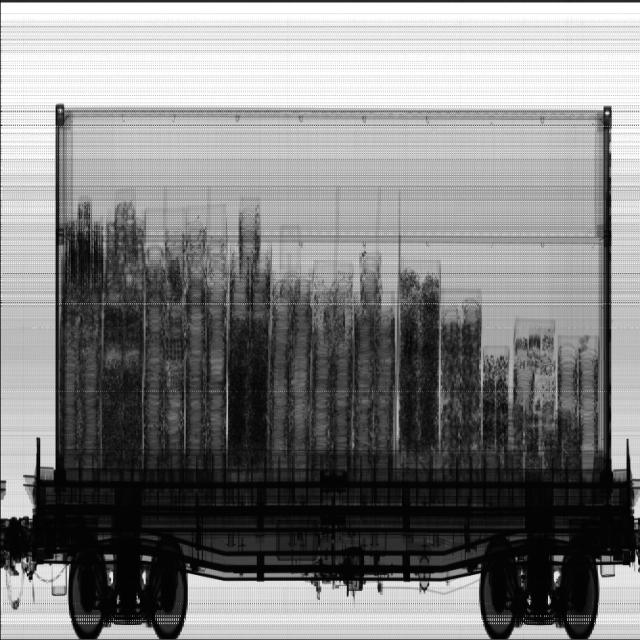table ware: (264, 254, 395, 458), (137, 222, 227, 462), (59, 291, 101, 461)
